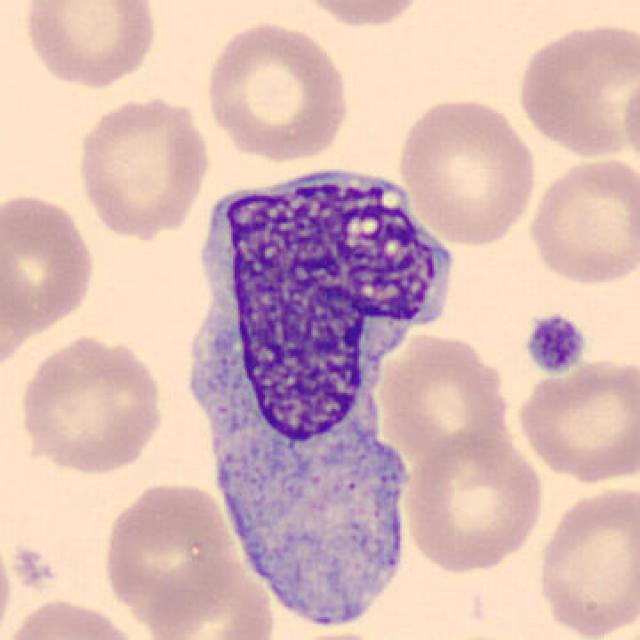Monocyte: (171, 124, 453, 628)
Platelets: (521, 310, 588, 378)
RBC: (393, 92, 540, 248), (199, 18, 354, 164), (14, 331, 167, 478), (400, 428, 548, 576), (100, 476, 238, 629), (73, 92, 213, 240), (370, 328, 514, 465), (512, 16, 636, 162), (532, 481, 638, 640), (514, 356, 638, 485), (524, 152, 640, 289), (0, 188, 100, 336), (18, 0, 162, 92), (142, 553, 277, 640), (0, 594, 149, 640), (0, 226, 43, 384), (286, 0, 434, 32), (618, 65, 640, 178), (0, 523, 16, 640), (272, 627, 400, 640)
